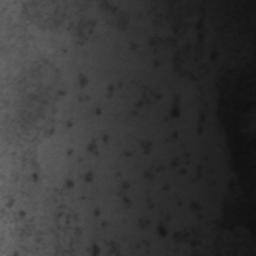Pitted surface: (1, 0, 256, 256)
